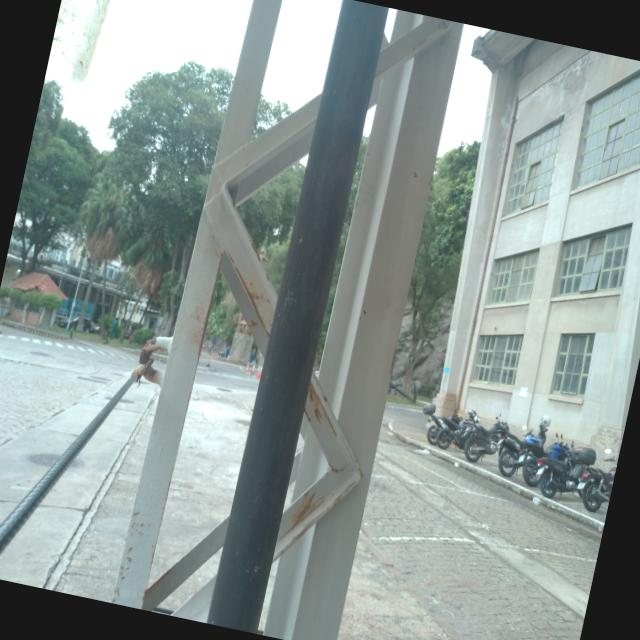gas: (206, 0, 391, 634)
